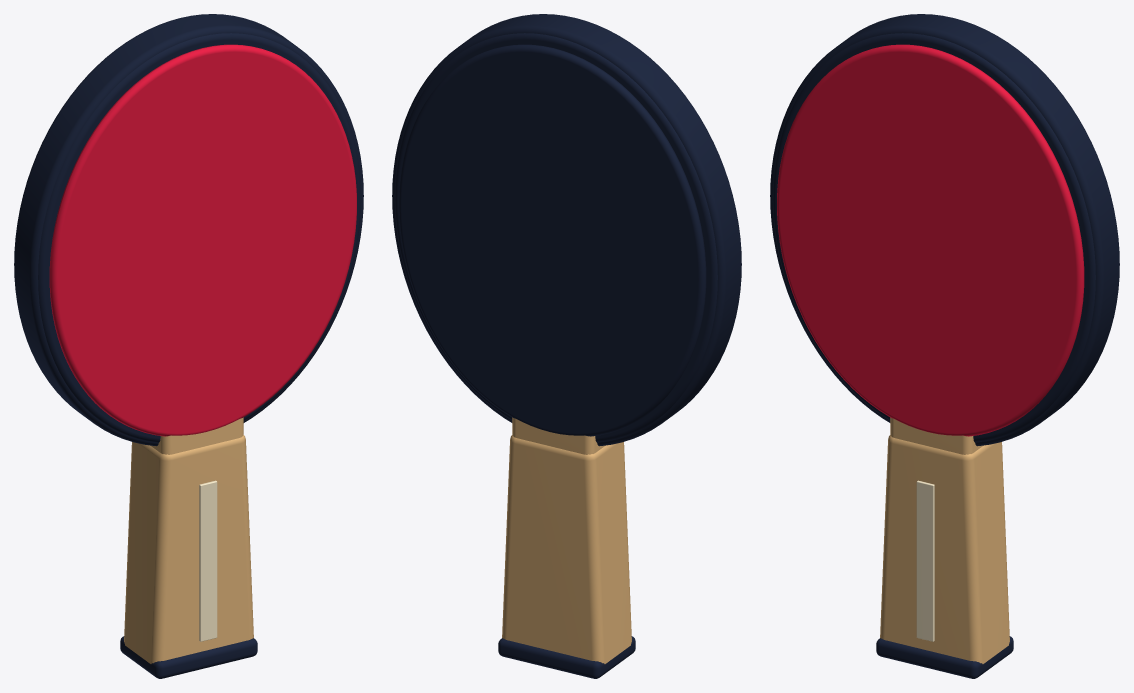
Rendered from RallyRapid.glb.
3 renders of one model, left to right at view 1: azimuth 30°, elevation 25°; view 2: azimuth 150°, elevation 25°; view 3: azimuth 330°, elevation 25°, orthographic.
Parts seen in each view (by area): view 1: FrontRubber, WoodHandle, OuterRim, RimLip, HandleInlay, HandleButt, Neck; view 2: BackRubber, WoodHandle, OuterRim, RimLip, HandleButt, Neck; view 3: FrontRubber, WoodHandle, OuterRim, RimLip, HandleInlay, HandleButt, Neck.
Part boxes in pixels (<box>): FrontRubber: <box>49,44,356,436</box>; WoodHandle: <box>124,435,253,663</box>; OuterRim: <box>14,14,363,446</box>; RimLip: <box>38,33,361,442</box>; HandleInlay: <box>199,480,217,641</box>; HandleButt: <box>120,636,257,678</box>; Neck: <box>151,417,243,454</box>; BackRubber: <box>399,44,706,436</box>; WoodHandle: <box>502,435,631,663</box>; OuterRim: <box>392,14,741,446</box>; RimLip: <box>394,33,717,442</box>; HandleButt: <box>498,636,635,678</box>; Neck: <box>512,417,604,454</box>; FrontRubber: <box>777,44,1084,436</box>; WoodHandle: <box>880,435,1009,663</box>; OuterRim: <box>770,14,1119,446</box>; RimLip: <box>772,33,1095,442</box>; HandleInlay: <box>916,480,934,641</box>; HandleButt: <box>876,636,1013,678</box>; Neck: <box>890,417,982,454</box>.
Size of the model in its own units: 0.49 by 0.8865 by 0.102.
